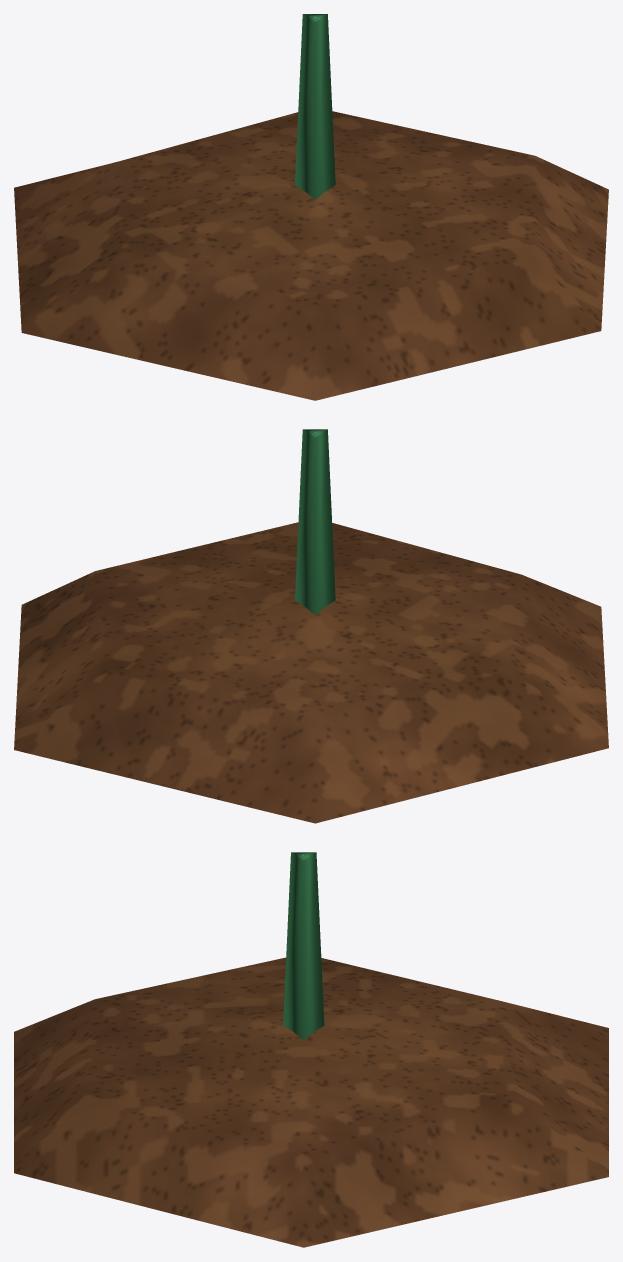
File: plant-blueberry-2-far.glb
3 views of the same model, one above another, from view 1: azimuth 30°, elevation 25°; view 2: azimuth 150°, elevation 25°; view 3: azimuth 270°, elevation 25° (orthographic).
Parts seen in each view (by area): view 1: plant-blueberry-2-far; view 2: plant-blueberry-2-far; view 3: plant-blueberry-2-far.
Part boxes in pixels (x1,y1,x2,y2): plant-blueberry-2-far: (14,14,608,400); plant-blueberry-2-far: (14,429,608,823); plant-blueberry-2-far: (14,852,608,1247).
Bounding box in the file's own units: 0.84 × 0.3335 × 0.7275.
3 materials, 1 textured.
